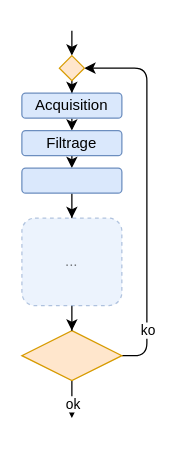
This 179x450 diagram has some shape labels left out. Here are the shapes that lost their labels. From the top down, the box of each, then its label:
(21, 167, 122, 193): Calcul
(21, 329, 122, 381): Attitude ?
